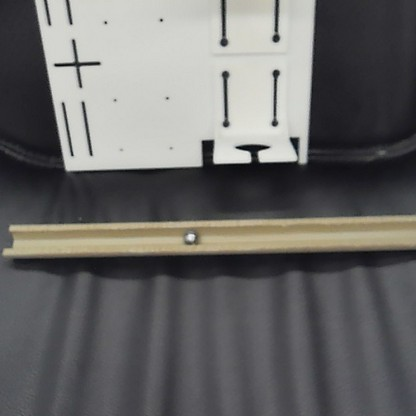ironball: (182, 226, 200, 243)
